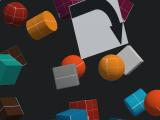Right: (68, 0, 128, 60)
